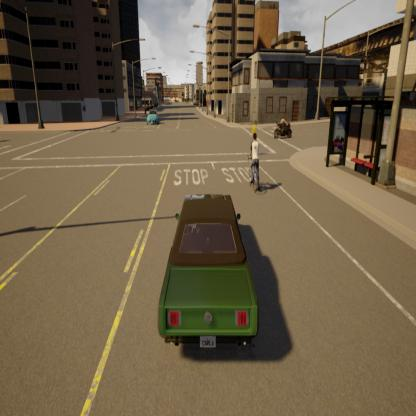Cars: (154, 188, 263, 359), (145, 108, 158, 126)
Pedestrian: (247, 115, 262, 152)
